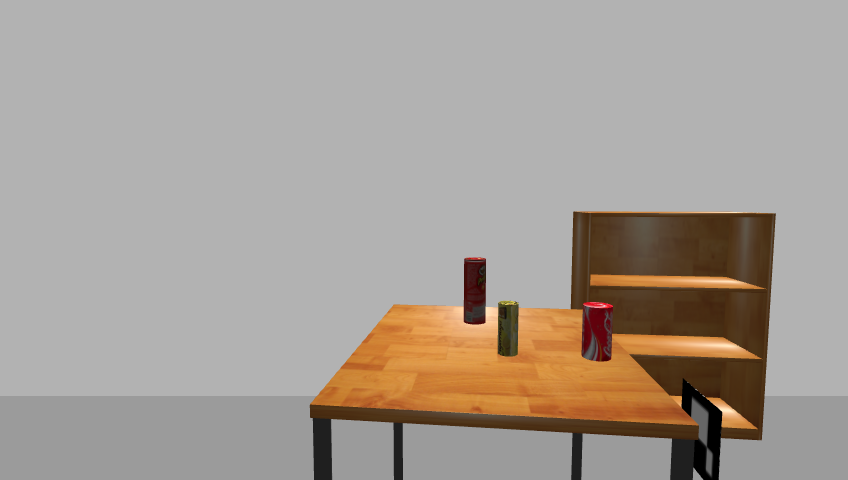aruco marker: (678, 379, 726, 480)
biscuits pack: (497, 301, 520, 358)
bookshelf: (567, 209, 783, 448)
coke can: (580, 302, 614, 362)
dinner table: (304, 303, 701, 480)
pringles can: (461, 257, 488, 326)
